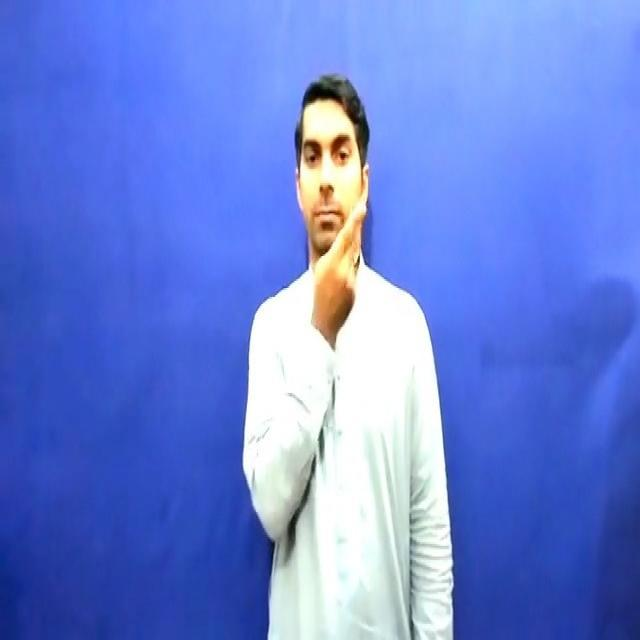napkin: (308, 192, 370, 335)
